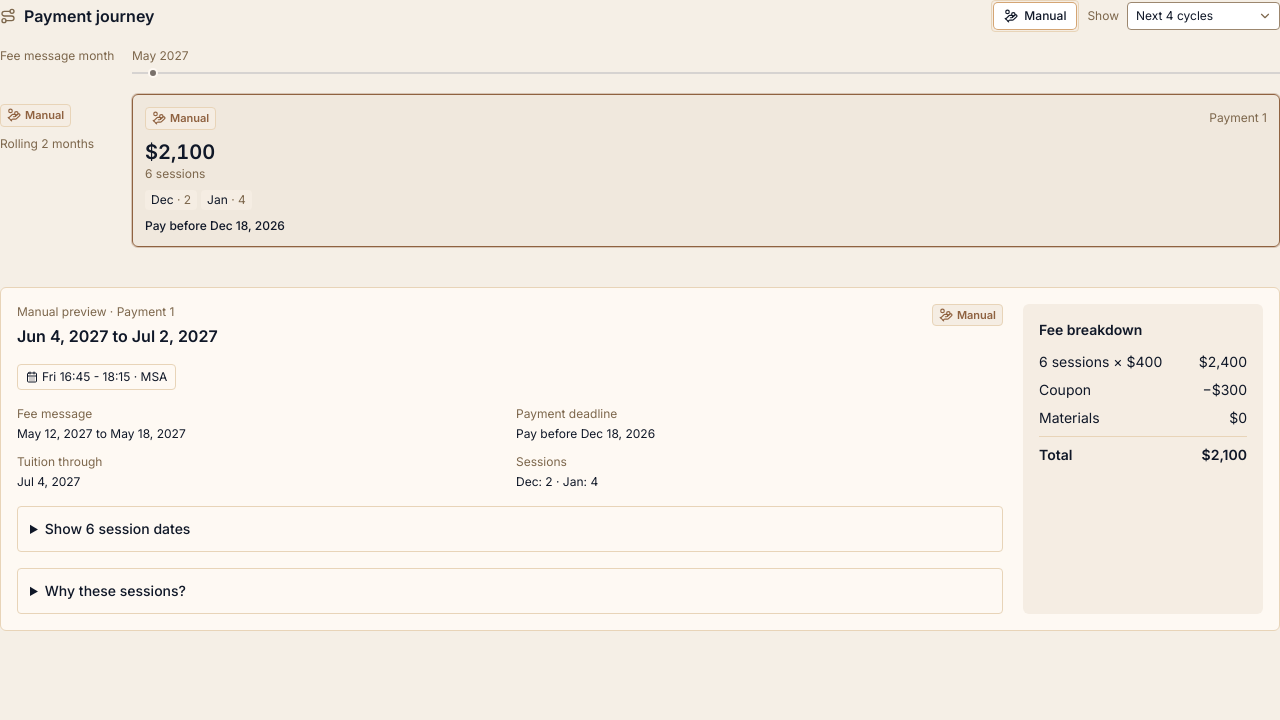
visual payment journey › keeps holiday exclusions and final-year cutoffs inside the affected session details
This screenshot has width=1280, height=720.
Check: the text "Teaching year ends" is not shown
Click the heading "Show 6 session dates". click: (118, 528)
box: [45,520,190,536]
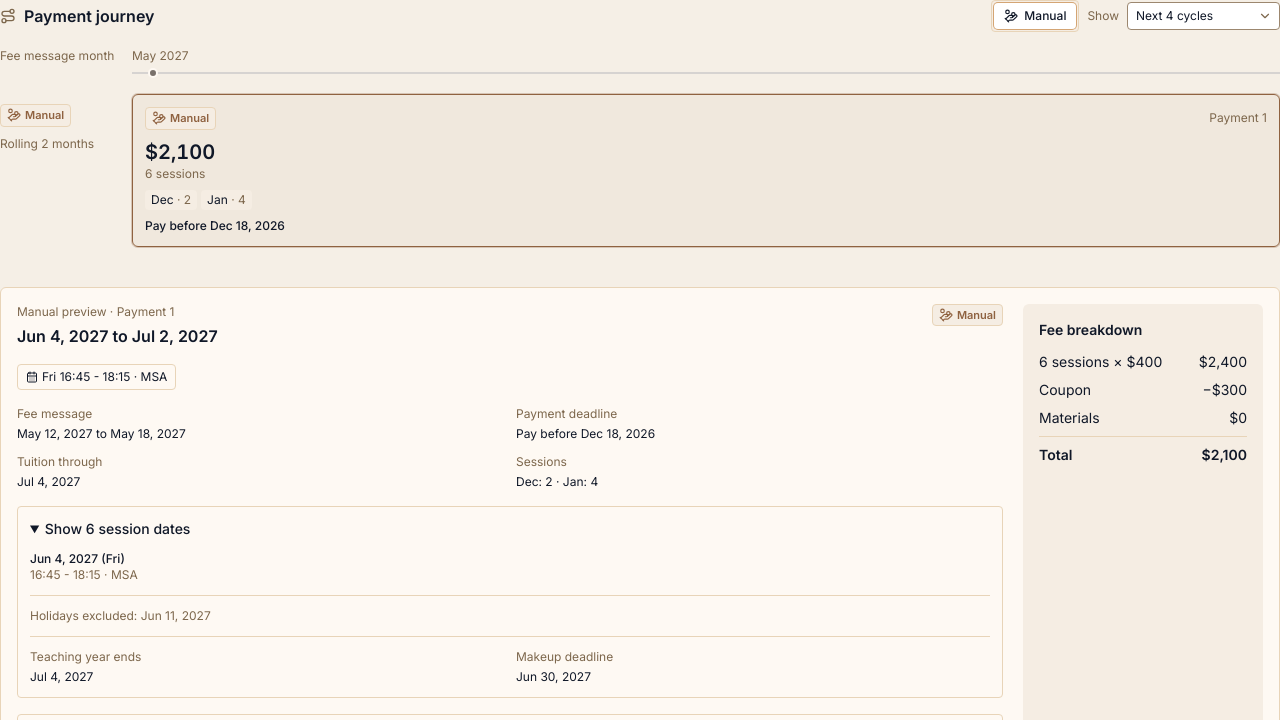
Check: the text "Teaching year ends" is shown, box [30,648,141,664]
Check: the text "Makeup deadline" is shown, box [516,648,613,664]
Check: the text "Jul 4, 2027" below "Teaching year ends" is shown, box [30,668,93,684]
